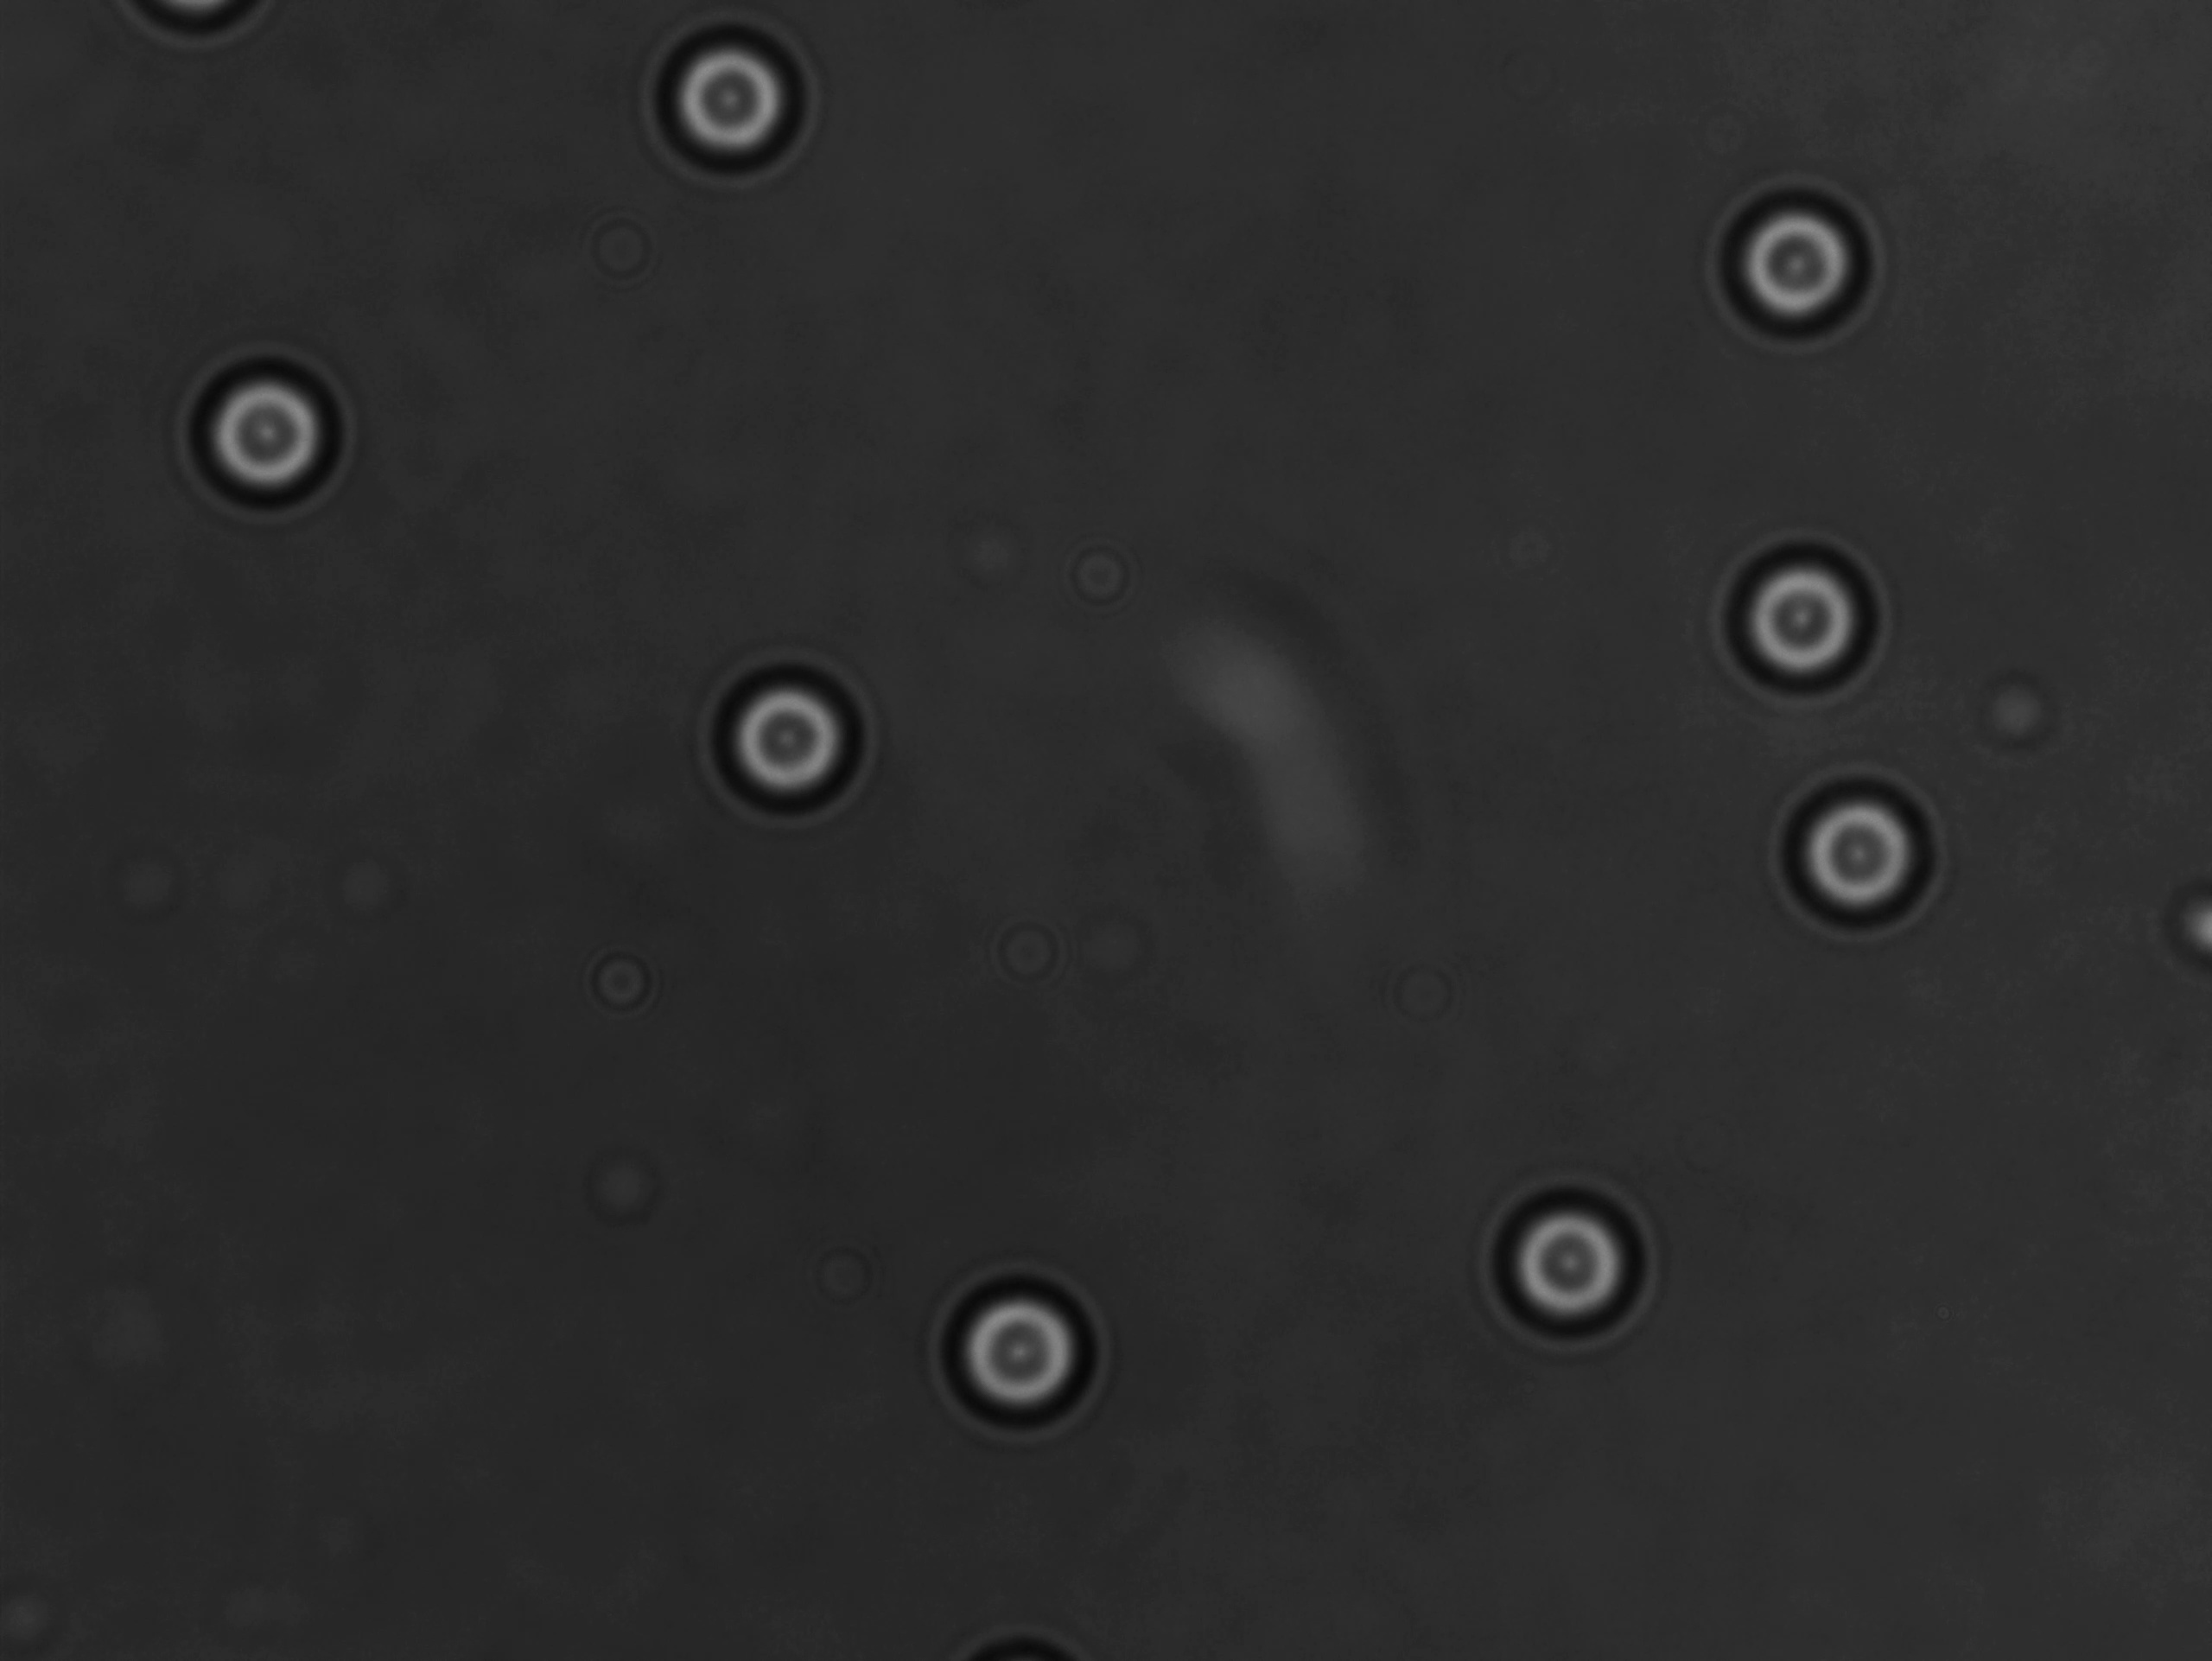depth:20: (705, 649, 886, 834), (1711, 529, 1900, 707), (1490, 1169, 1669, 1350), (1772, 766, 1952, 947), (932, 1260, 1113, 1431), (1703, 178, 1882, 349), (197, 344, 356, 523), (654, 14, 818, 178)
